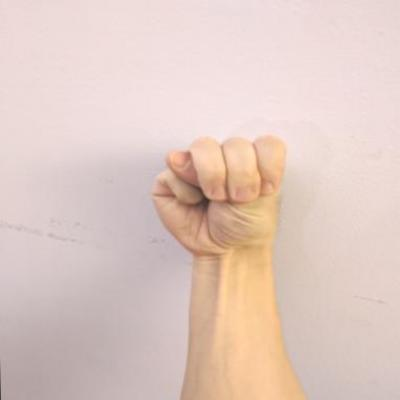hand: (142, 121, 296, 264)
